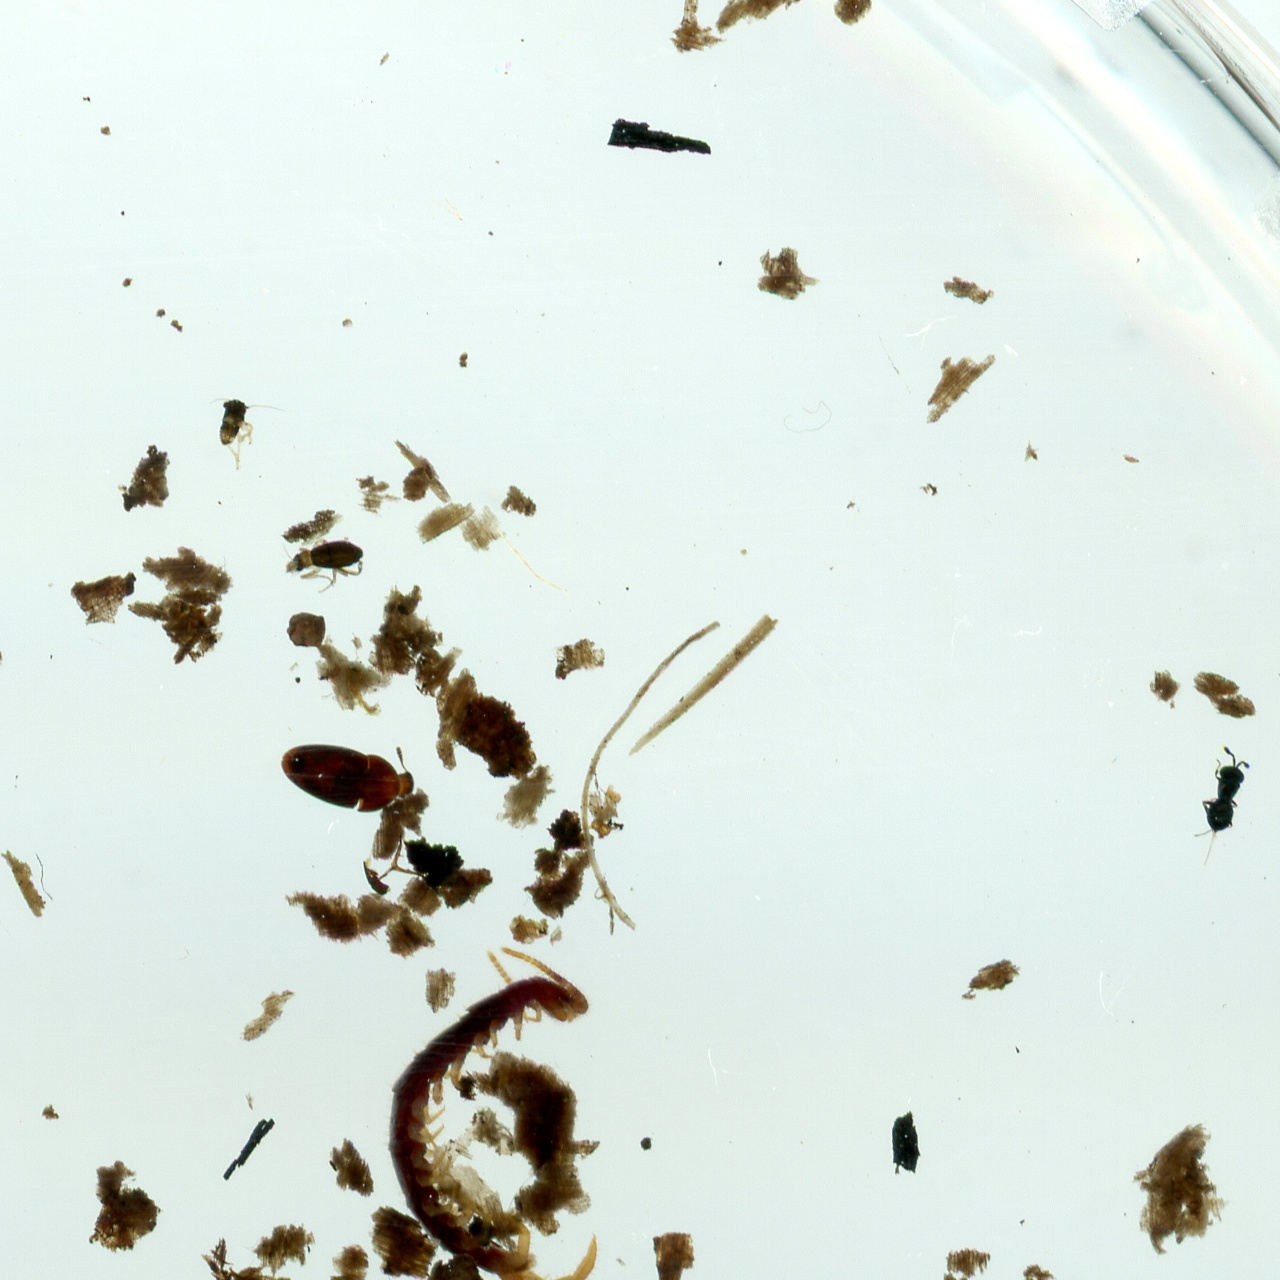arthropod: (380, 941, 606, 1280), (1179, 738, 1264, 880), (278, 741, 417, 817), (204, 392, 291, 472), (279, 532, 372, 595)
